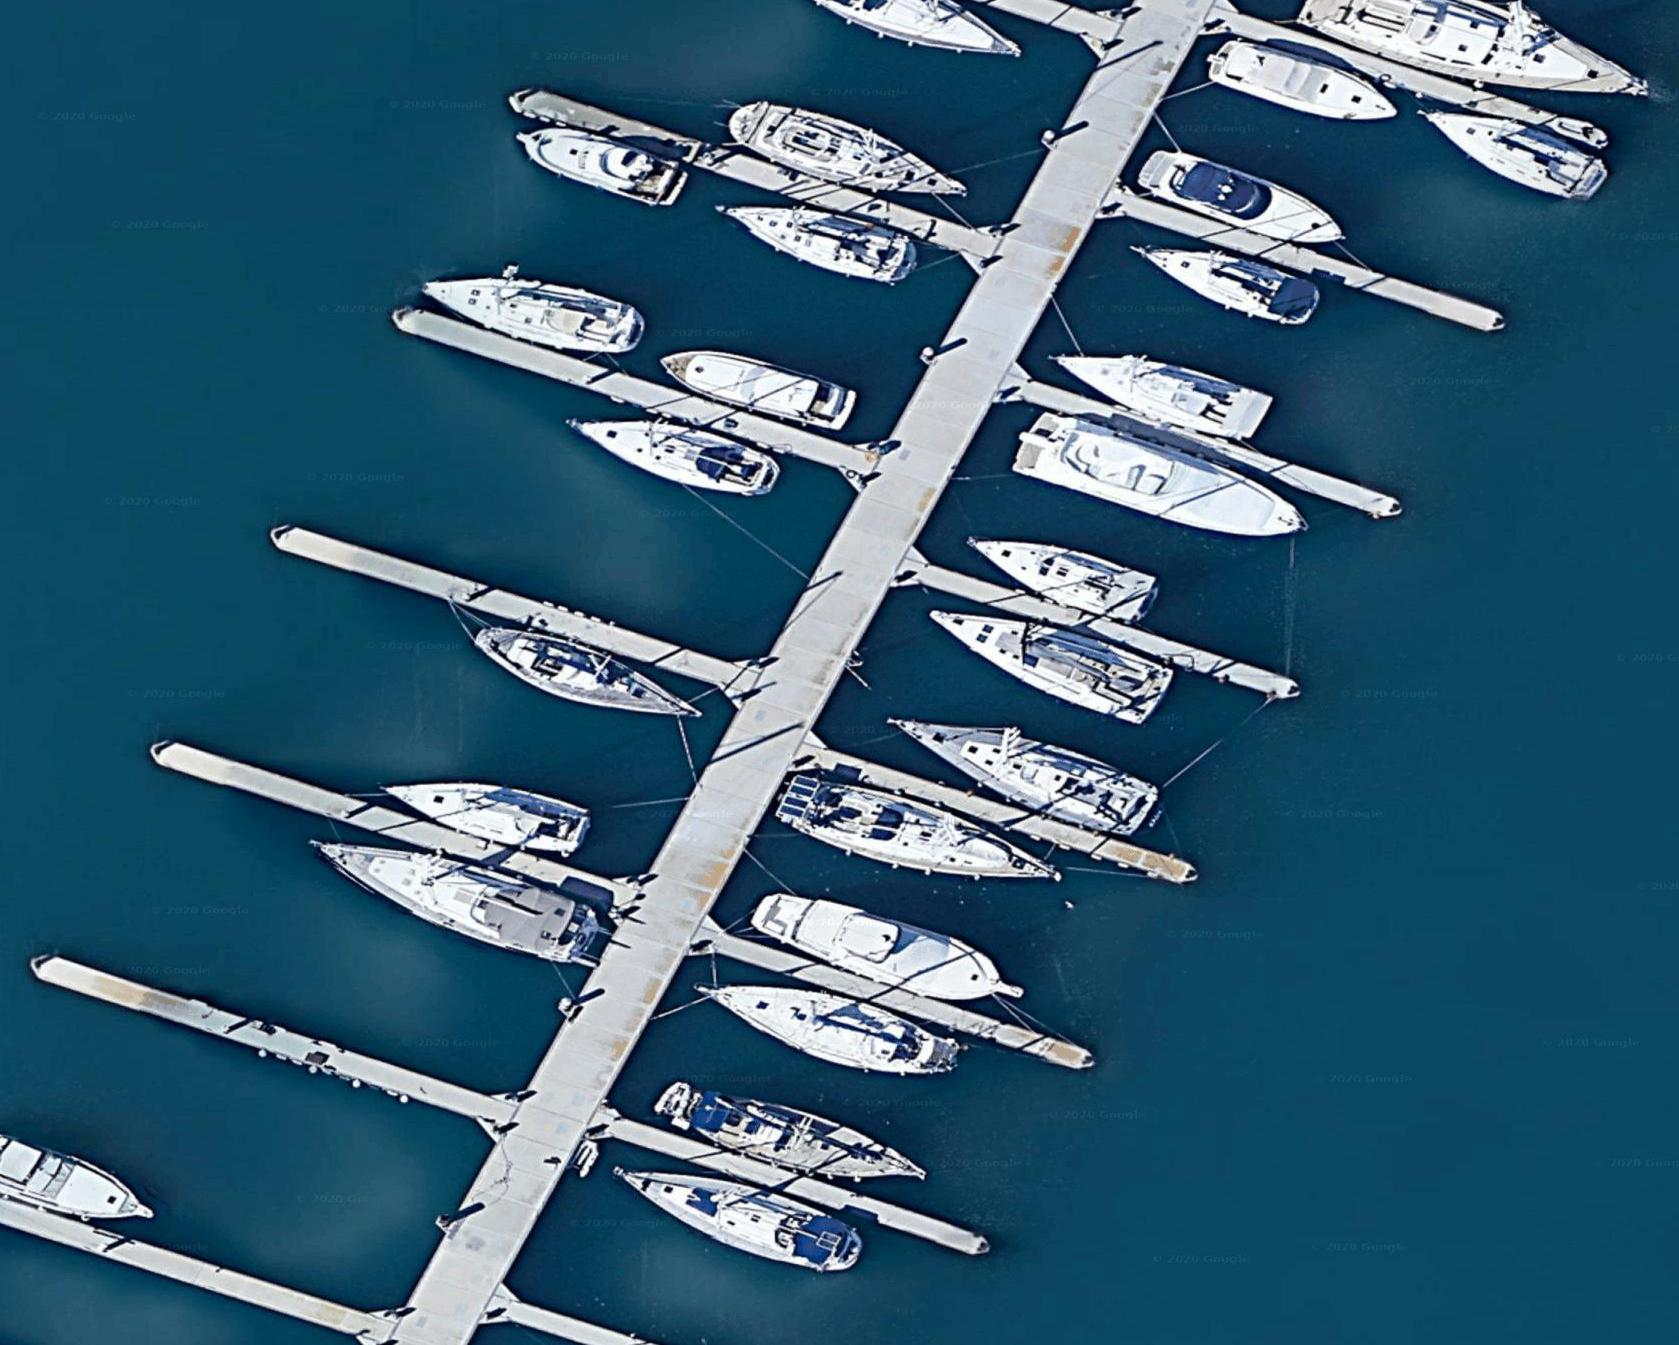harbor: (63, 1, 1540, 1335)
ship: (312, 818, 612, 979), (1015, 399, 1317, 553), (723, 878, 1030, 1018), (761, 759, 1047, 891), (1253, 1, 1641, 97), (918, 593, 1179, 732), (697, 959, 973, 1087), (443, 598, 697, 730), (607, 1154, 862, 1285), (1120, 136, 1362, 264), (715, 86, 961, 207), (1199, 25, 1406, 140), (1409, 95, 1613, 211), (1118, 222, 1328, 332), (954, 513, 1166, 620), (10, 1099, 167, 1241), (570, 403, 789, 504), (416, 262, 648, 357), (508, 91, 717, 192), (655, 332, 853, 425), (719, 195, 921, 285), (507, 113, 686, 213), (815, 1, 1034, 62)
